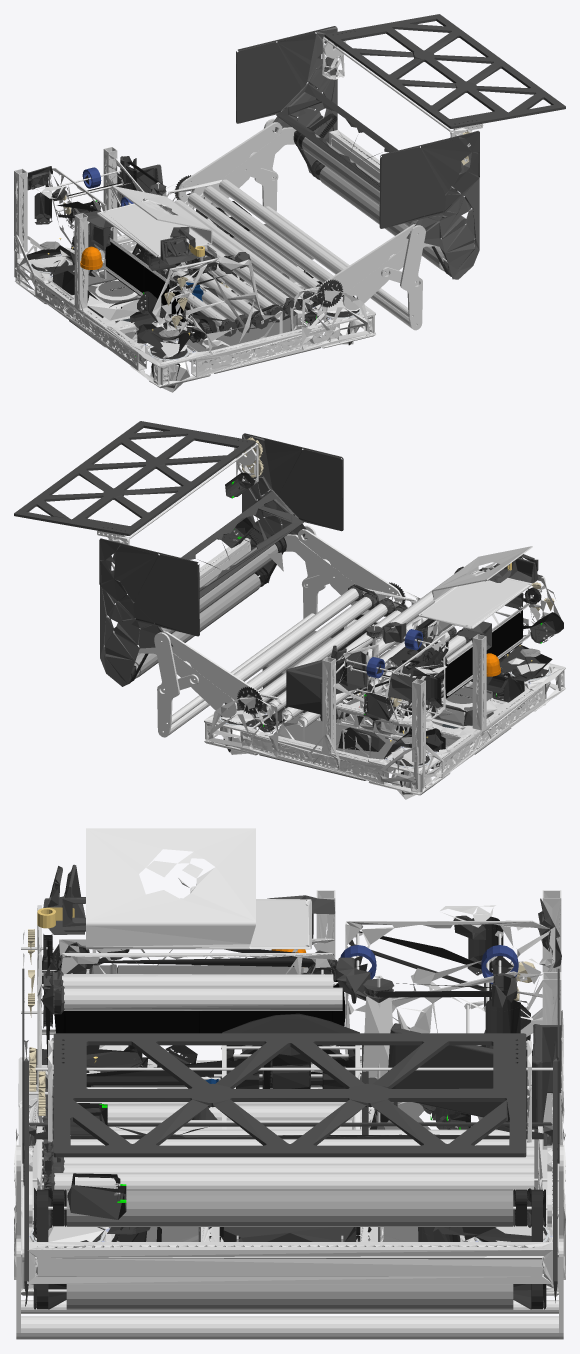
Rendered from robot_calgames.glb.
3 views of the same model, one above another, from view 1: azimuth 30°, elevation 25°; view 2: azimuth 150°, elevation 25°; view 3: azimuth 270°, elevation 25° (orthographic). The views are drawn at different scales.
Visible parts, largest first — view 1: body_30, body_31, head_41, blocker_0, swing0_59, head_42, body_8, body_13, swing1_61, head_43, body_16, head_47 (+7 smaller); view 2: body_31, body_30, head_41, blocker_0, body_13, swing0_59, body_8, head_42, swing1_61, head_43, body_16, head_47 (+11 smaller); view 3: body_30, body_31, blocker_0, head_43, head_47, swing0_59, body_13, body_8, body_5, body_2, head_41, head_40 (+9 smaller).
Part boxes in pixels (left/top/right/bottom): body_30: left=15, top=179, right=375, bottom=388; body_31: left=14, top=147, right=370, bottom=362; head_41: left=236, top=26, right=479, bottom=228; blocker_0: left=324, top=14, right=565, bottom=128; swing0_59: left=203, top=118, right=441, bottom=330; head_42: left=272, top=26, right=479, bottom=279; body_8: left=26, top=166, right=359, bottom=388; body_13: left=27, top=156, right=332, bottom=336; swing1_61: left=178, top=122, right=415, bottom=303; head_43: left=302, top=134, right=445, bottom=271; body_16: left=41, top=221, right=413, bottom=373; head_47: left=322, top=36, right=470, bottom=262; body_31: left=208, top=546, right=560, bottom=788; body_30: left=204, top=572, right=565, bottom=795; head_41: left=99, top=433, right=343, bottom=636; blocker_0: left=14, top=421, right=255, bottom=535; body_13: left=286, top=554, right=542, bottom=734; swing0_59: left=137, top=525, right=375, bottom=737; body_8: left=220, top=587, right=563, bottom=794; head_42: left=100, top=434, right=307, bottom=686; swing1_61: left=163, top=529, right=402, bottom=710; head_43: left=134, top=544, right=278, bottom=678; body_16: left=249, top=552, right=539, bottom=780; head_47: left=109, top=443, right=260, bottom=632; body_30: left=18, top=974, right=564, bottom=1295; body_31: left=14, top=828, right=565, bottom=1279; blocker_0: left=53, top=1033, right=526, bottom=1157; head_43: left=66, top=1189, right=513, bottom=1309; head_47: left=27, top=1040, right=552, bottom=1292; swing0_59: left=16, top=1145, right=563, bottom=1339; body_13: left=41, top=864, right=561, bottom=1190; body_8: left=29, top=916, right=547, bottom=1241; body_5: left=44, top=931, right=507, bottom=1187; body_2: left=54, top=980, right=345, bottom=1033; head_41: left=22, top=968, right=559, bottom=1163; head_40: left=33, top=1103, right=546, bottom=1309.
Size of the model in its own units: 1.23 by 0.5504 by 0.7493.
